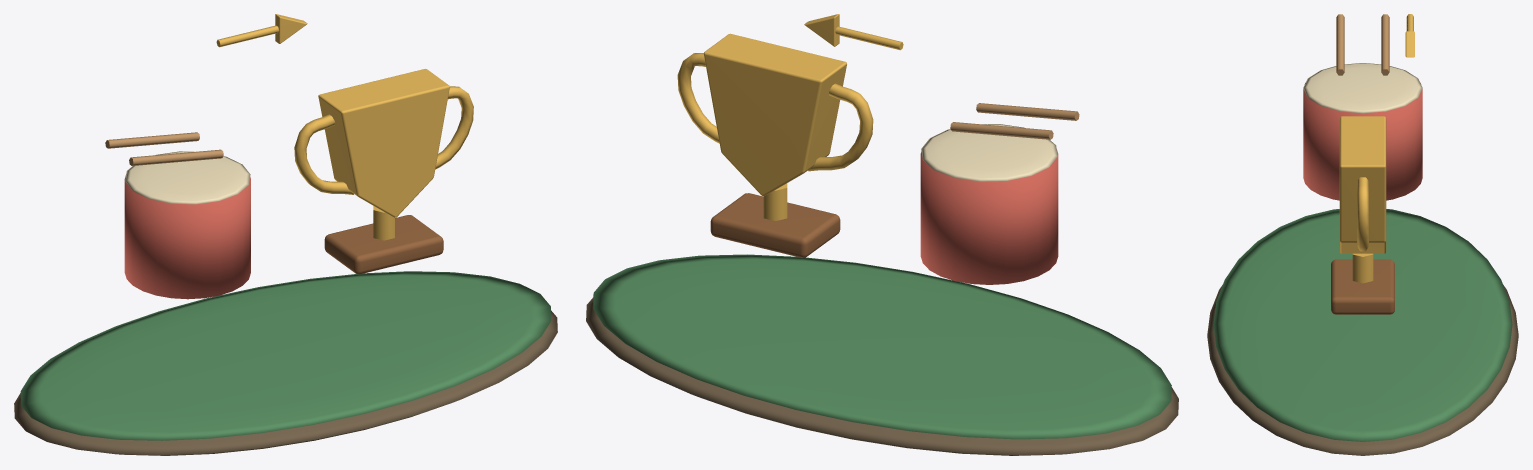
The model's file is complete-third-drum-encouragement.glb.
3 renders of one model, left to right at view 1: azimuth 30°, elevation 25°; view 2: azimuth 150°, elevation 25°; view 3: azimuth 270°, elevation 25°, orthographic. The views are drawn at different scales.
Parts seen in each view (by area): view 1: complete-third-drum-encouragement_surface_01, complete-third-drum-encouragement_surface_05, complete-third-drum-encouragement_surface_02, complete-third-drum-encouragement_surface_00, complete-third-drum-encouragement_surface_03, complete-third-drum-encouragement_surface_06, complete-third-drum-encouragement_surface_04; view 2: complete-third-drum-encouragement_surface_01, complete-third-drum-encouragement_surface_05, complete-third-drum-encouragement_surface_02, complete-third-drum-encouragement_surface_00, complete-third-drum-encouragement_surface_03, complete-third-drum-encouragement_surface_06, complete-third-drum-encouragement_surface_04; view 3: complete-third-drum-encouragement_surface_01, complete-third-drum-encouragement_surface_05, complete-third-drum-encouragement_surface_02, complete-third-drum-encouragement_surface_00, complete-third-drum-encouragement_surface_03, complete-third-drum-encouragement_surface_06, complete-third-drum-encouragement_surface_04.
Boxes of the visible parts, x1,y1,x2,y2 form: complete-third-drum-encouragement_surface_01: (20, 271, 551, 440); complete-third-drum-encouragement_surface_05: (216, 14, 473, 240); complete-third-drum-encouragement_surface_02: (124, 174, 250, 299); complete-third-drum-encouragement_surface_00: (14, 310, 557, 455); complete-third-drum-encouragement_surface_03: (125, 151, 250, 204); complete-third-drum-encouragement_surface_06: (324, 215, 443, 274); complete-third-drum-encouragement_surface_04: (105, 132, 223, 165); complete-third-drum-encouragement_surface_01: (593, 254, 1171, 439); complete-third-drum-encouragement_surface_05: (677, 14, 903, 220); complete-third-drum-encouragement_surface_02: (920, 149, 1058, 284); complete-third-drum-encouragement_surface_00: (586, 297, 1178, 455); complete-third-drum-encouragement_surface_03: (921, 124, 1057, 181); complete-third-drum-encouragement_surface_06: (710, 193, 840, 257); complete-third-drum-encouragement_surface_04: (950, 103, 1079, 139); complete-third-drum-encouragement_surface_01: (1213, 209, 1512, 441); complete-third-drum-encouragement_surface_05: (1339, 14, 1414, 283); complete-third-drum-encouragement_surface_02: (1303, 83, 1422, 200); complete-third-drum-encouragement_surface_00: (1207, 285, 1518, 455); complete-third-drum-encouragement_surface_03: (1303, 63, 1422, 113); complete-third-drum-encouragement_surface_06: (1331, 259, 1394, 314); complete-third-drum-encouragement_surface_04: (1336, 14, 1389, 75).
Size of the model in its own units: 4.56 by 2.89 by 2.5.
